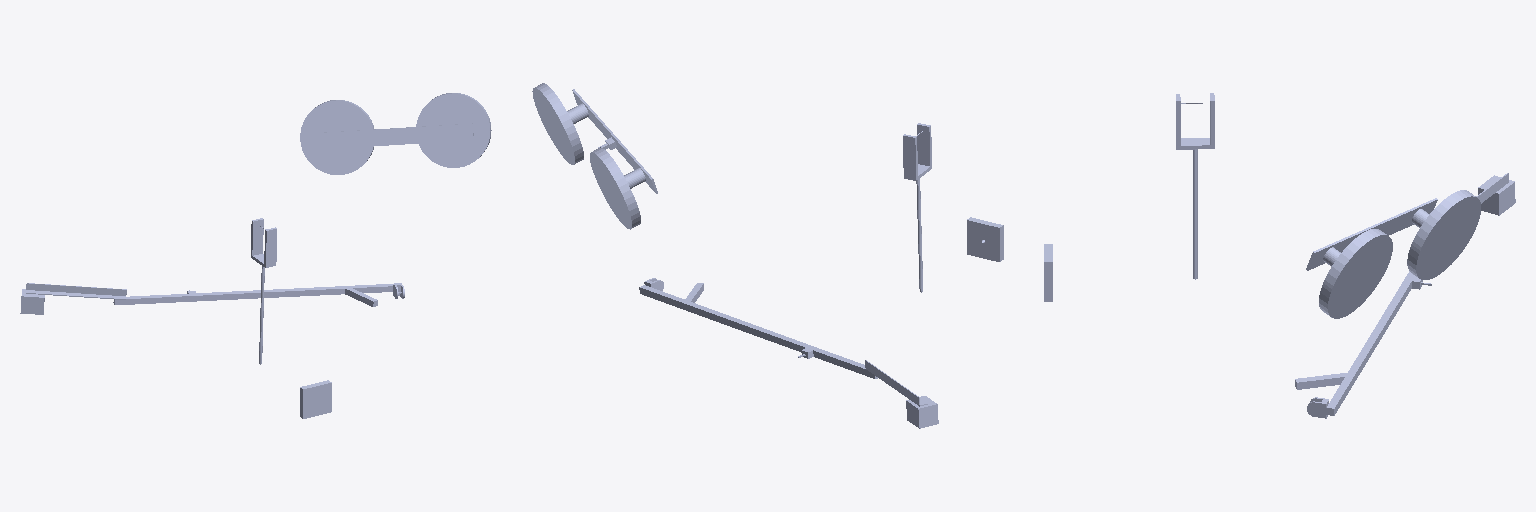
The robot description file, URDF, robot "Baugr1_neu":
<?xml version="1.0" encoding="utf-8"?>
<!-- This URDF was automatically created by SolidWorks to URDF Exporter! Originally created by [author] ([email redacted]) 
     Commit Version: 1.6.0-4-g7f85cfe  Build Version: 1.6.7995.38578
     For more information, please see http://wiki.ros.org/sw_urdf_exporter -->
<robot
  name="Baugr1_neu">
  <link
    name="base_link">
    <inertial>
      <origin
        xyz="-2.77555756156289E-17 -0.010014813474129 -1.38777878078145E-17"
        rpy="0 0 0" />
      <mass
        value="0.198821902754904" />
      <inertia
        ixx="0.000173296474165141"
        ixy="-1.18377987230202E-20"
        ixz="5.98344073940438E-20"
        iyy="0.000333318607117769"
        iyz="-2.7905190722586E-21"
        izz="0.000173296474165141" />
    </inertial>
    <visual>
      <origin
        xyz="0 0 0"
        rpy="0 0 0" />
      <geometry>
        <mesh
          filename="package://Baugr1_neu/meshes/base_link.STL" />
      </geometry>
      <material
        name="">
        <color
          rgba="0.792156862745098 0.819607843137255 0.933333333333333 1" />
      </material>
    </visual>
    <collision>
      <origin
        xyz="0 0 0"
        rpy="0 0 0" />
      <geometry>
        <mesh
          filename="package://Baugr1_neu/meshes/base_link.STL" />
      </geometry>
    </collision>
  </link>
  <link
    name="mast">
    <inertial>
      <origin
        xyz="-2.77555756156289E-17 1.38777878078145E-17 -0.00990334808044974"
        rpy="0 0 0" />
      <mass
        value="0.146997165855957" />
      <inertia
        ixx="0.00165530089499019"
        ixy="-1.6940658945086E-20"
        ixz="-9.05909129000529E-20"
        iyy="0.00151558687029216"
        iyz="5.69219397412074E-20"
        izz="0.000168947179064957" />
    </inertial>
    <visual>
      <origin
        xyz="0 0 0"
        rpy="0 0 0" />
      <geometry>
        <mesh
          filename="package://Baugr1_neu/meshes/mast.STL" />
      </geometry>
      <material
        name="">
        <color
          rgba="0.792156862745098 0.819607843137255 0.933333333333333 1" />
      </material>
    </visual>
    <collision>
      <origin
        xyz="0 0 0"
        rpy="0 0 0" />
      <geometry>
        <mesh
          filename="package://Baugr1_neu/meshes/mast.STL" />
      </geometry>
    </collision>
  </link>
  <joint
    name="mast"
    type="continuous">
    <origin
      xyz="0 0.325 0"
      rpy="1.5707963267949 0.0302496115811473 0" />
    <parent
      link="base_link" />
    <child
      link="mast" />
    <axis
      xyz="0 0 1" />
    <limit
      lower="0"
      upper="0"
      effort="0"
      velocity="0" />
  </joint>
  <link
    name="arm">
    <inertial>
      <origin
        xyz="-0.034802820992966 -0.0305629778991205 -0.0053633608313837"
        rpy="0 0 0" />
      <mass
        value="0.670566481180146" />
      <inertia
        ixx="0.000221577080037879"
        ixy="0.000117365608493163"
        ixz="-4.05813694804121E-07"
        iyy="0.0221326364583199"
        iyz="-1.41524054076888E-06"
        izz="0.0221979713787108" />
    </inertial>
    <visual>
      <origin
        xyz="0 0 0"
        rpy="0 0 0" />
      <geometry>
        <mesh
          filename="package://Baugr1_neu/meshes/arm.STL" />
      </geometry>
      <material
        name="">
        <color
          rgba="0.792156862745098 0.819607843137255 0.933333333333333 1" />
      </material>
    </visual>
    <collision>
      <origin
        xyz="0 0 0"
        rpy="0 0 0" />
      <geometry>
        <mesh
          filename="package://Baugr1_neu/meshes/arm.STL" />
      </geometry>
    </collision>
  </link>
  <joint
    name="arm"
    type="continuous">
    <origin
      xyz="0 0 -0.109"
      rpy="-1.5707963267949 -0.141106709405523 0" />
    <parent
      link="mast" />
    <child
      link="arm" />
    <axis
      xyz="0 0 -1" />
    <limit
      lower="0"
      upper="0"
      effort="0"
      velocity="0" />
  </joint>
  <link
    name="heli">
    <inertial>
      <origin
        xyz="-7.17481629664007E-15 0.0329530083690057 -8.04911692853238E-15"
        rpy="0 0 0" />
      <mass
        value="2.53244229880151" />
      <inertia
        ixx="0.00741298241473207"
        ixy="1.0842021724855E-18"
        ixz="2.85958322993052E-18"
        iyy="0.0174840510486902"
        iyz="5.57008866114428E-18"
        izz="0.0104731788262659" />
    </inertial>
    <visual>
      <origin
        xyz="0 0 0"
        rpy="0 0 0" />
      <geometry>
        <mesh
          filename="package://Baugr1_neu/meshes/heli.STL" />
      </geometry>
      <material
        name="">
        <color
          rgba="0.792156862745098 0.819607843137255 0.933333333333333 1" />
      </material>
    </visual>
    <collision>
      <origin
        xyz="0 0 0"
        rpy="0 0 0" />
      <geometry>
        <mesh
          filename="package://Baugr1_neu/meshes/heli.STL" />
      </geometry>
    </collision>
  </link>
  <joint
    name="heli"
    type="continuous">
    <origin
      xyz="0.635999999999999 -0.0890000000000002 0"
      rpy="-1.5707963267949 -1.08914028989554 1.5707963267949" />
    <parent
      link="arm" />
    <child
      link="heli" />
    <axis
      xyz="0 0 -1" />
    <limit
      lower="0"
      upper="0"
      effort="0"
      velocity="0" />
  </joint>
</robot>

--- What the picture shows (computed from the rendered views, not written in the file) ---
The picture shows the robot from 3 angles, left to right: view 1: azimuth 30°, elevation 25°; view 2: azimuth 150°, elevation 25°; view 3: azimuth 270°, elevation 25°; orthographic projection.
Model Baugr1_neu with 4 links and 3 joints (3 continuous), rooted at base_link, posed all joints at 0.
Links seen in each view (by area): view 1: heli, arm, mast, base_link; view 2: heli, arm, mast, base_link; view 3: heli, arm, mast.
Link boxes in pixels (x1,y1,x2,y2): heli: (300, 93, 491, 174); arm: (20, 283, 404, 314); mast: (251, 218, 276, 364); base_link: (300, 380, 331, 418); heli: (532, 83, 657, 229); arm: (639, 278, 938, 428); mast: (903, 123, 931, 292); base_link: (967, 217, 1003, 261); heli: (1306, 190, 1480, 318); arm: (1295, 173, 1515, 418); mast: (1176, 93, 1214, 279).
Size in the robot's own frame: 1.44 by 1.08 by 0.5818 metres.
4 mesh visuals loaded from 4 distinct referenced files (4 binary STL).
